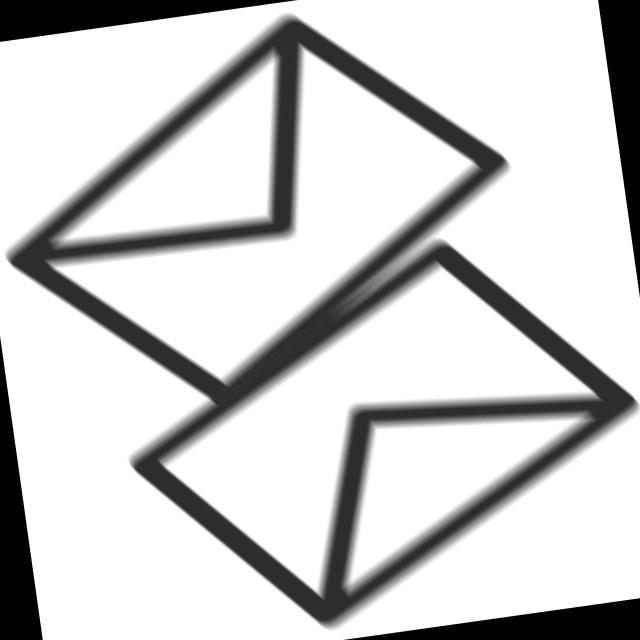letter: (1, 4, 526, 420), (109, 230, 640, 640)
